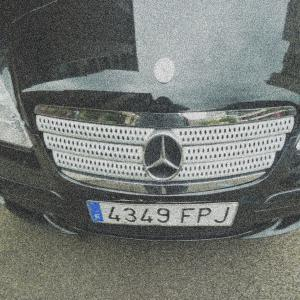Vehicle-registration-plate: (86, 202, 241, 232)
